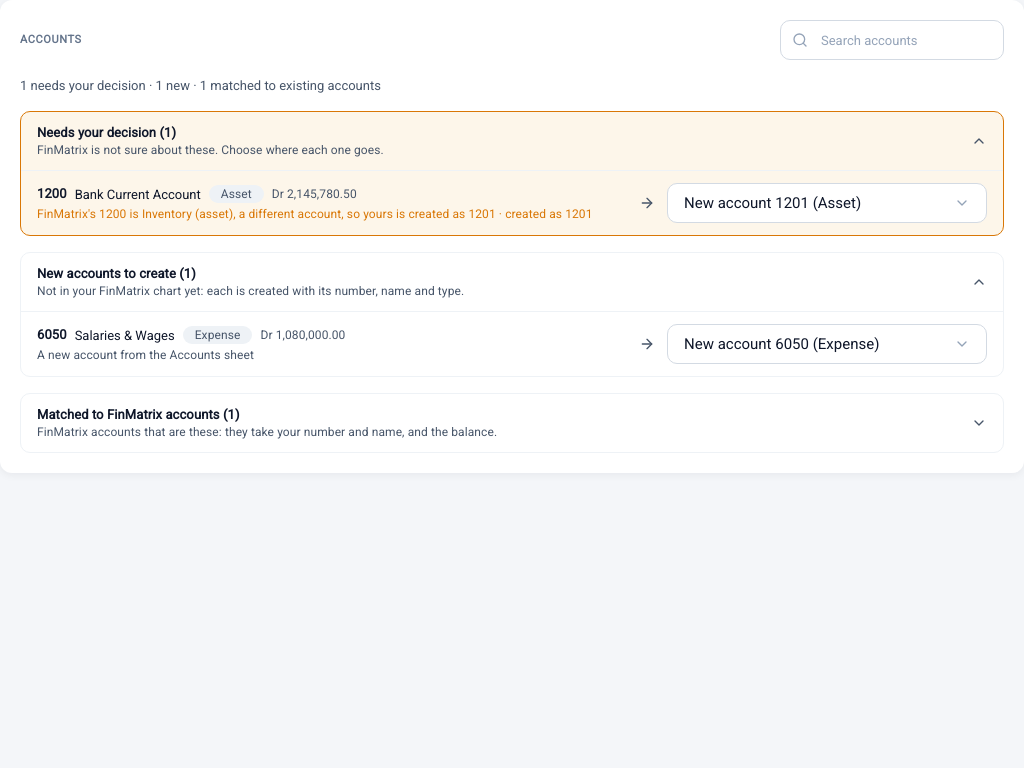
Test case: Match step: accounts › keeps matched accounts folded until opened, and finds them by name
Expected: the text "Sales" is not shown
Click the button "Matched to FinMatrix accounts".
click(128, 414)  # box [21,394,1003,452]
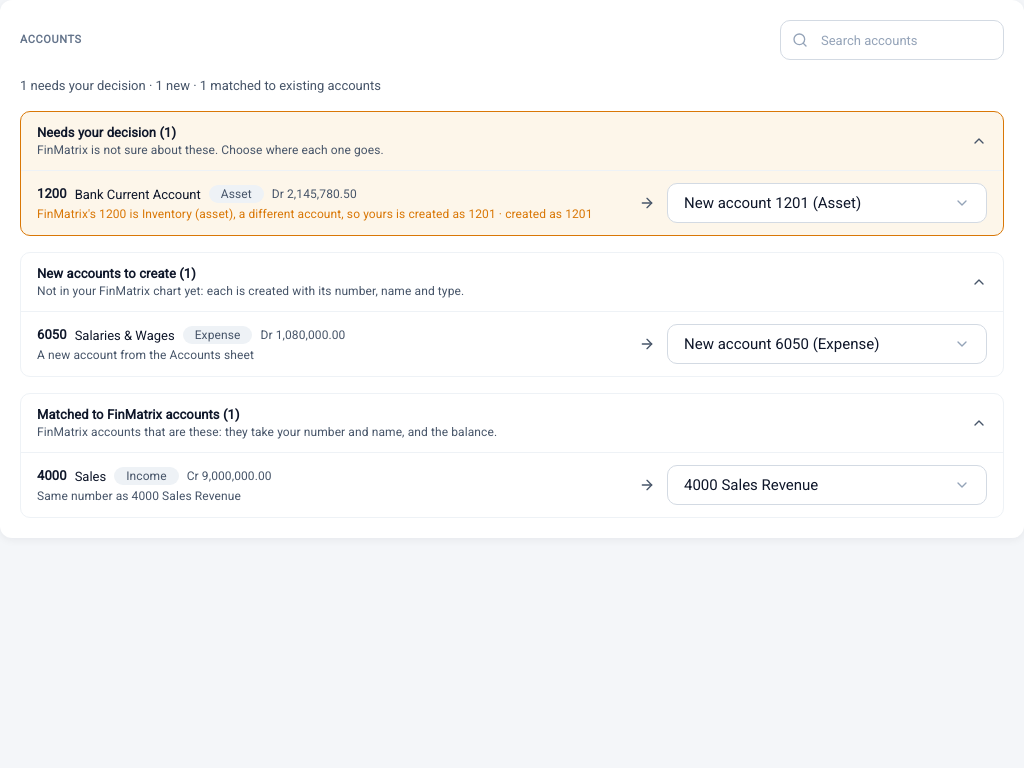
Expected: the text "Sales" is shown, [75,466,106,486]
Expected: the text "Cr 9,000,000.00" is shown, [187,468,272,484]
